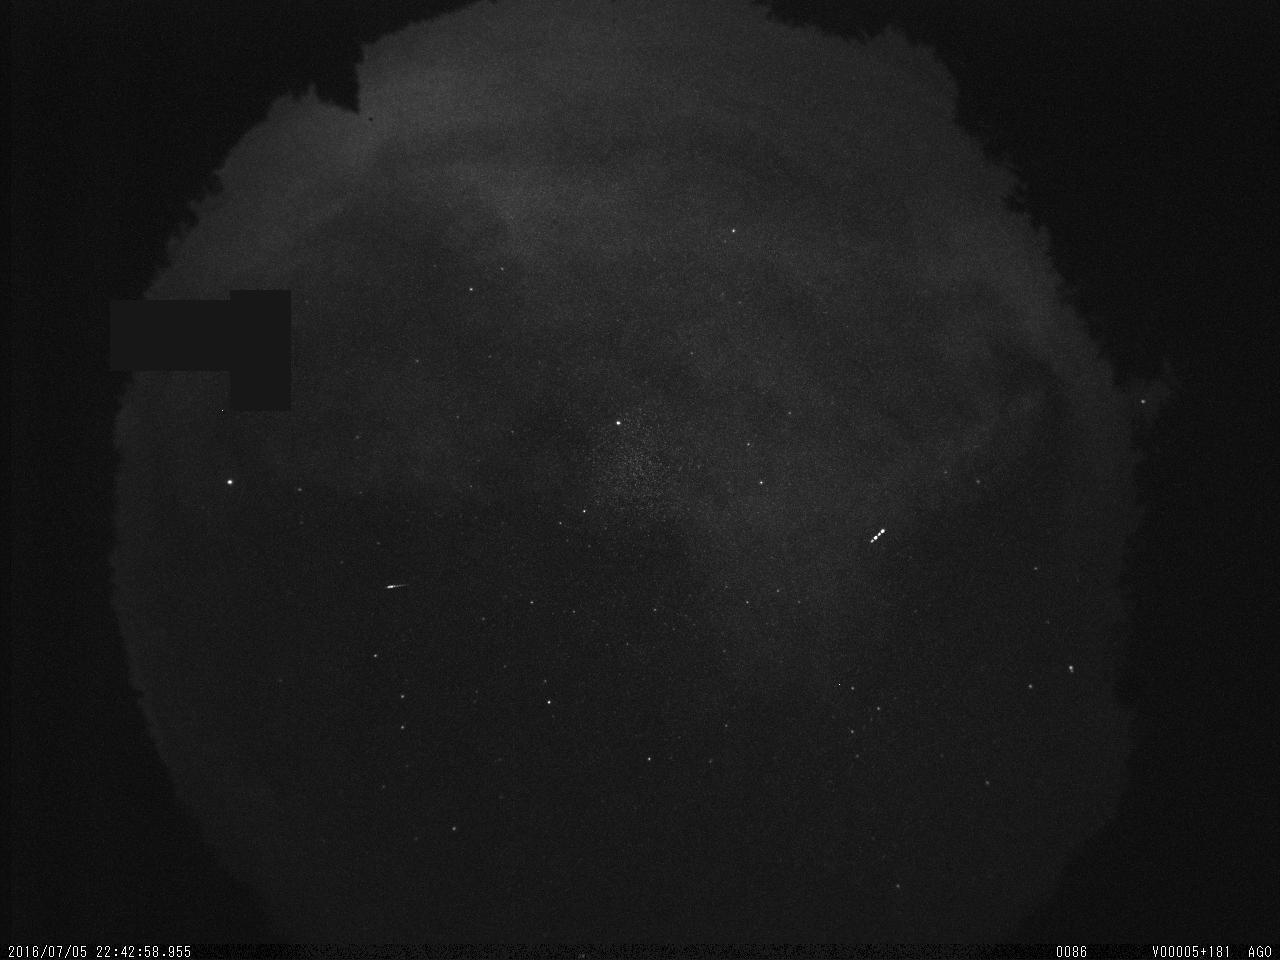meteor: (382, 579, 412, 595)
satelite: (864, 519, 889, 552)
